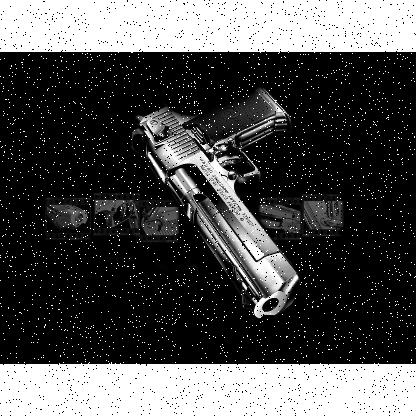gun: (130, 85, 298, 319)
